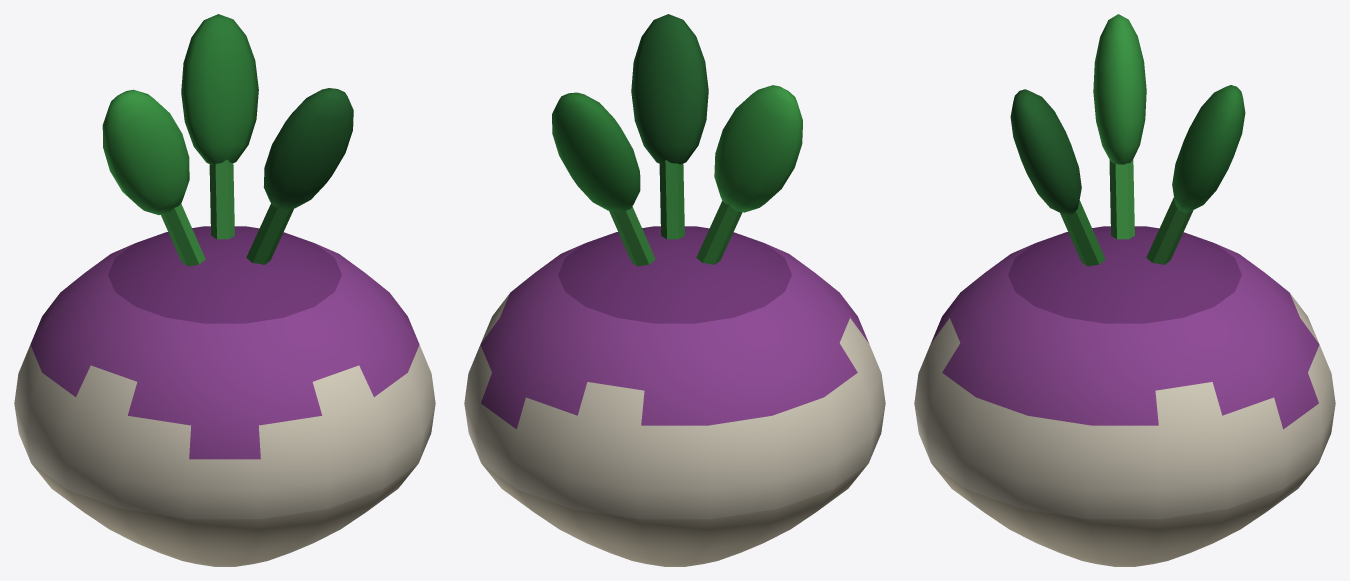
File: Turnip.glb
3 views of the same model, side by side, from view 1: azimuth 30°, elevation 25°; view 2: azimuth 150°, elevation 25°; view 3: azimuth 270°, elevation 25° (orthographic).
Visible parts, largest first — view 1: Turnip; view 2: Turnip; view 3: Turnip.
Part boxes in pixels (<box>): Turnip: <box>14,14,435,566</box>; Turnip: <box>464,14,885,566</box>; Turnip: <box>914,14,1335,566</box>.
Bounding box in the file's own units: 0.5909 × 0.7674 × 0.6.
